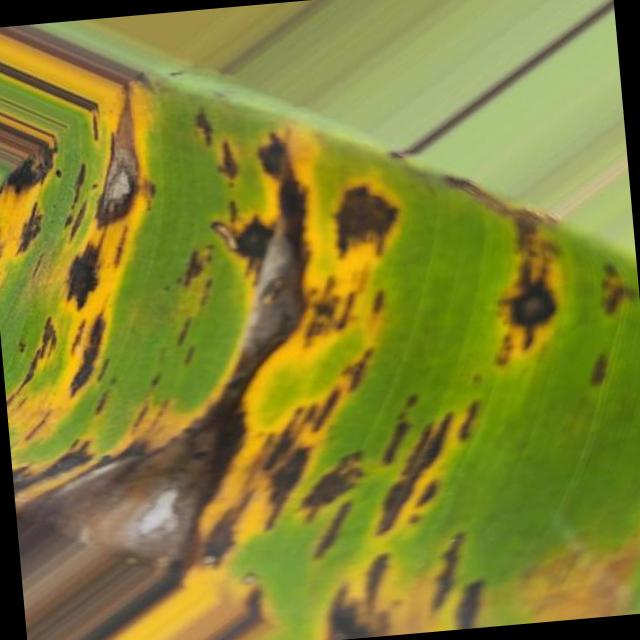Banana_Black_Sigatoka: (183, 86, 583, 640), (0, 98, 157, 544)
